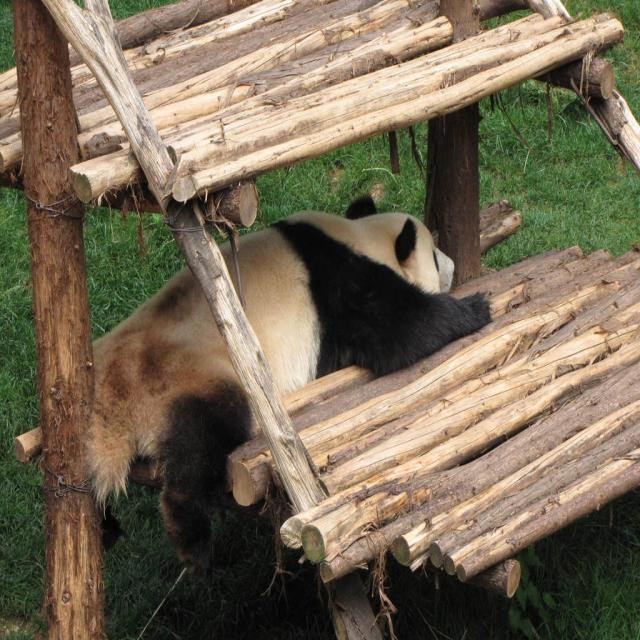panda: (87, 192, 494, 580)
